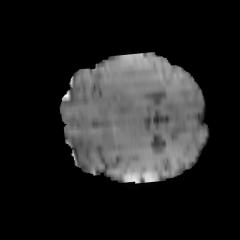glioma: (92, 53, 168, 117)
